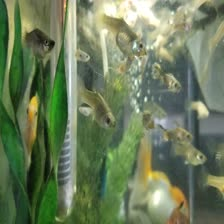Cuezo: (129, 137, 190, 223)
Guppy: (73, 74, 121, 130), (20, 25, 59, 55)
Plano: (24, 85, 40, 161)
